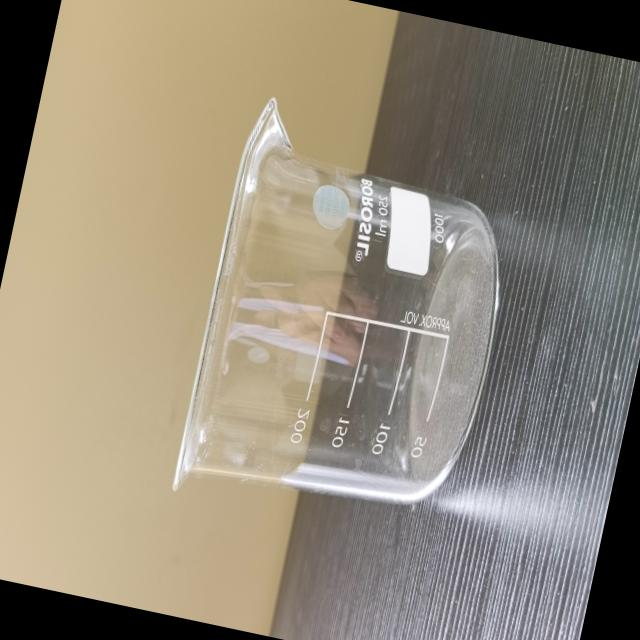beaker: (161, 84, 539, 551)
